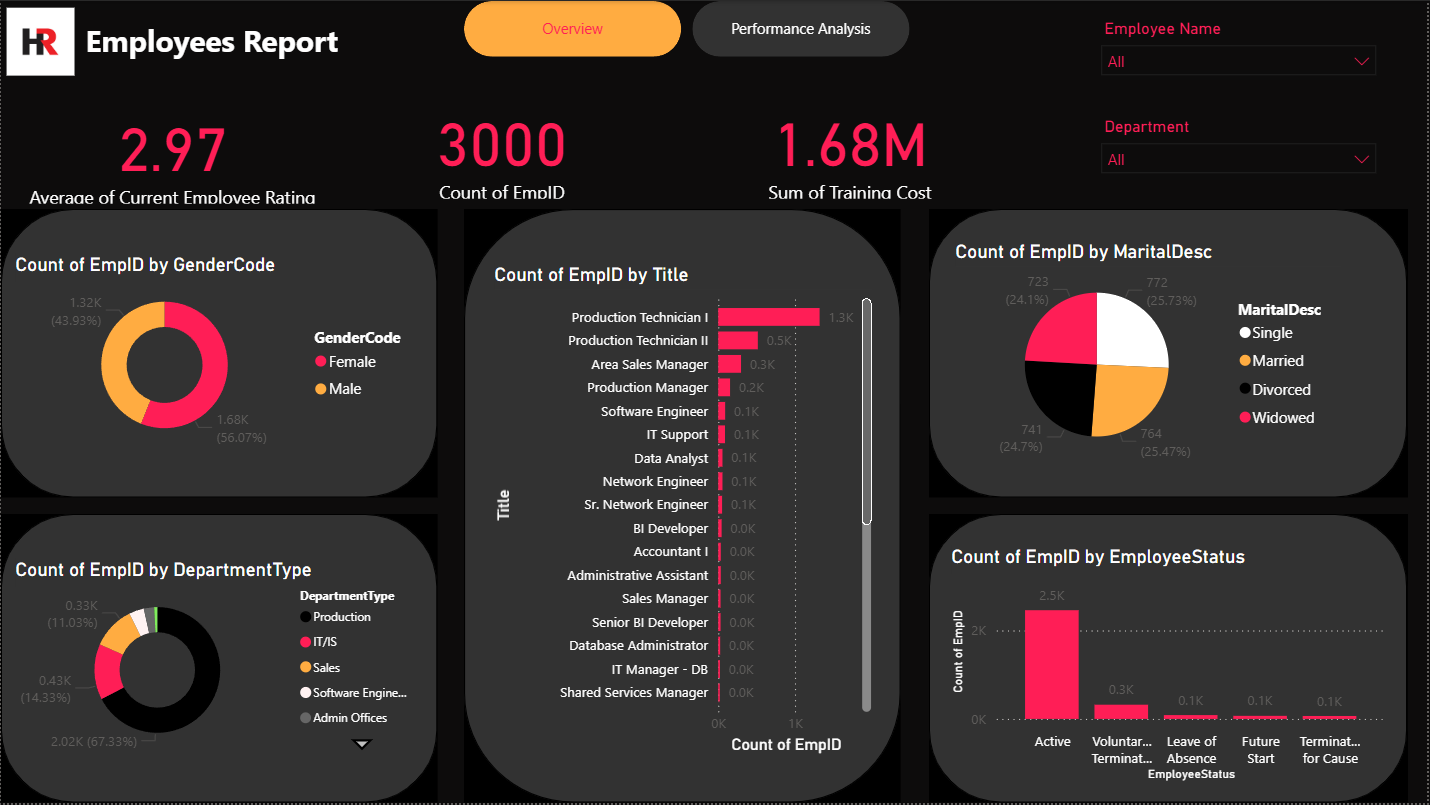

The page's visual inventory and layout, read from the dashboard file:
{"tool":"powerbi","page":{"name":"Overview","canvas":[1280,720],"ordinal":0},"visuals":[{"type":"textbox","box":[70.9,11.7,252.3,61],"z":0},{"type":"image","box":[0,0,70.9,72.7],"z":1000},{"type":"shape","box":[0,186.7,392.3,259.5],"z":2000},{"type":"donutChart","fields":{"Category":["employee_data.GenderCode"],"Y":["employee_data.EmpID"]},"box":[8.1,226.2,375.3,180.4],"z":3000},{"type":"shape","box":[0,460.5,392.3,259.5],"z":4000},{"type":"shape","box":[415.7,186.7,392.3,533.3],"z":5000},{"type":"donutChart","fields":{"Y":["employee_data.EmpID"],"Category":["employee_data.DepartmentType"]},"box":[8.1,500,375.3,180.4],"z":6000},{"type":"shape","box":[833.1,186.7,430,259.5],"z":7000},{"type":"shape","box":[833.1,460.5,430,259.5],"z":8000},{"type":"columnChart","fields":{"Y":["employee_data.EmpID"],"Category":["employee_data.EmployeeStatus"]},"box":[848.4,488.4,399.5,216.4],"z":9000},{"type":"pieChart","fields":{"Y":["employee_data.EmpID"],"Category":["employee_data.MaritalDesc"]},"box":[852,214.6,355.5,204.7],"z":10000},{"type":"barChart","fields":{"Y":["employee_data.EmpID"],"Category":["employee_data.Title"]},"box":[438.1,235.2,348.3,445.3],"z":11000},{"type":"card","fields":{"Values":["employee_data.EmpID"]},"box":[299.9,83.5,299.9,98.8],"z":12000},{"type":"card","fields":{"Values":["employee_data.Current Employee Rating"]},"box":[8.1,88,291.8,98.8],"z":13000},{"type":"slicer","fields":{"Values":["employee_data.FirstName"]},"box":[977.7,11.7,266.6,71.8],"z":14000},{"type":"card","fields":{"Values":["training_and_development_data.Training Cost"]},"box":[612.3,83.5,299.9,98.8],"z":15000},{"type":"slicer","fields":{"Values":["employee_data.DepartmentType"]},"box":[977.7,99.7,266.6,71.8],"z":16000},{"type":"pageNavigator","box":[415.7,0,400.4,50.3],"z":17000}]}

Visuals, with their boxes in screenshot pixels (x1, y1, x2, y2), scaled from the page's 1280x720 canvas onto the 1430x805 screenshot:
textbox: detection(79, 13, 361, 81)
image: detection(0, 0, 79, 81)
shape: detection(0, 209, 438, 499)
donutChart - employee_data.GenderCode x employee_data.EmpID: detection(9, 253, 428, 455)
shape: detection(0, 515, 438, 804)
shape: detection(464, 209, 903, 804)
donutChart - employee_data.EmpID x employee_data.DepartmentType: detection(9, 559, 428, 761)
shape: detection(931, 209, 1411, 499)
shape: detection(931, 515, 1411, 804)
columnChart - employee_data.EmpID x employee_data.EmployeeStatus: detection(948, 546, 1394, 788)
pieChart - employee_data.EmpID x employee_data.MaritalDesc: detection(952, 240, 1349, 469)
barChart - employee_data.EmpID x employee_data.Title: detection(489, 263, 879, 761)
card - employee_data.EmpID: detection(335, 93, 670, 204)
card - employee_data.Current Employee Rating: detection(9, 98, 335, 209)
slicer - employee_data.FirstName: detection(1092, 13, 1390, 93)
card - training_and_development_data.Training Cost: detection(684, 93, 1019, 204)
slicer - employee_data.DepartmentType: detection(1092, 111, 1390, 192)
pageNavigator: detection(464, 0, 912, 56)
